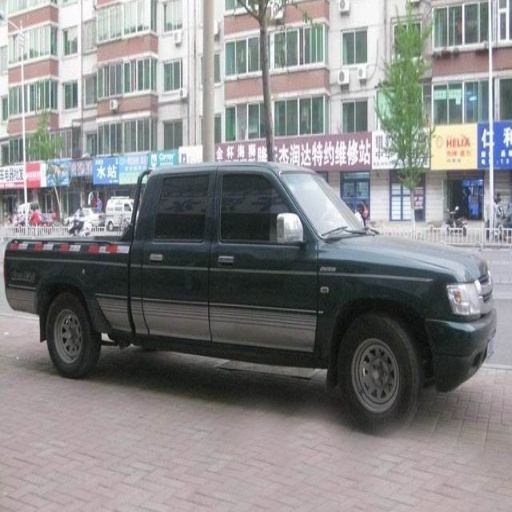front_bumper: (426, 311, 496, 379)
front_right_door: (212, 168, 318, 354)
trunk: (16, 240, 139, 339)
